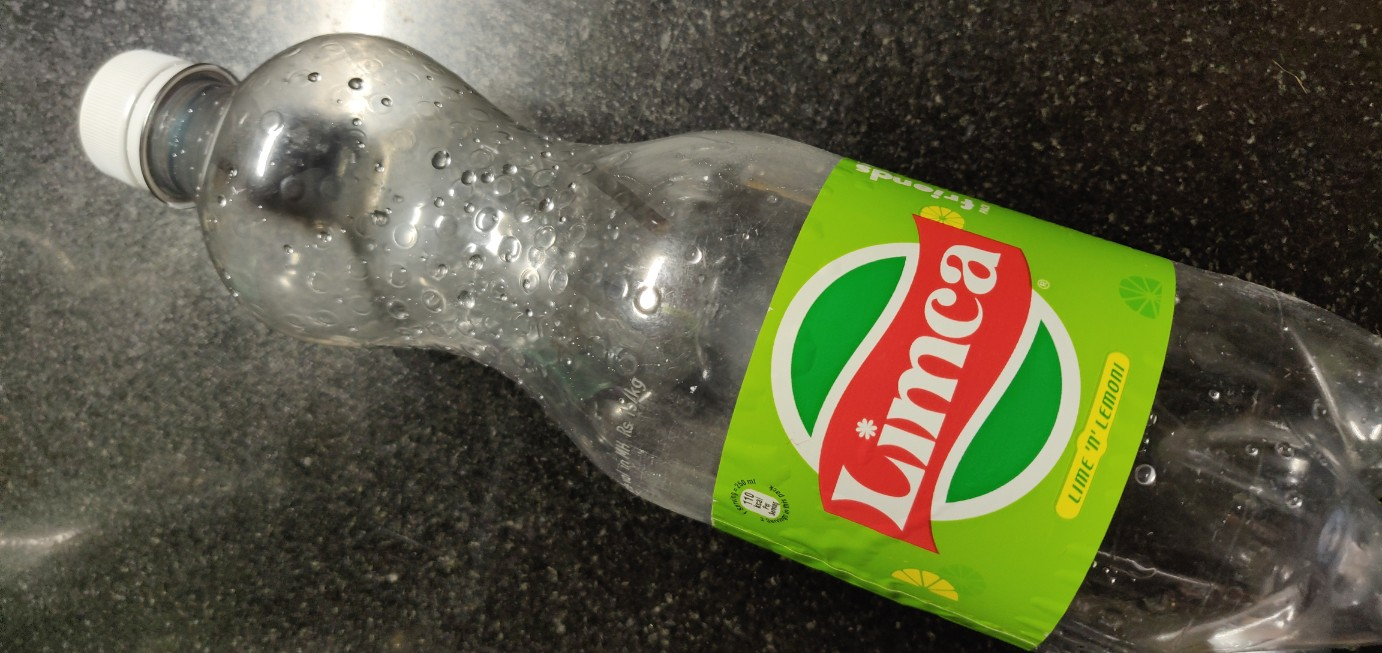Electronics: (66, 17, 1382, 653)
